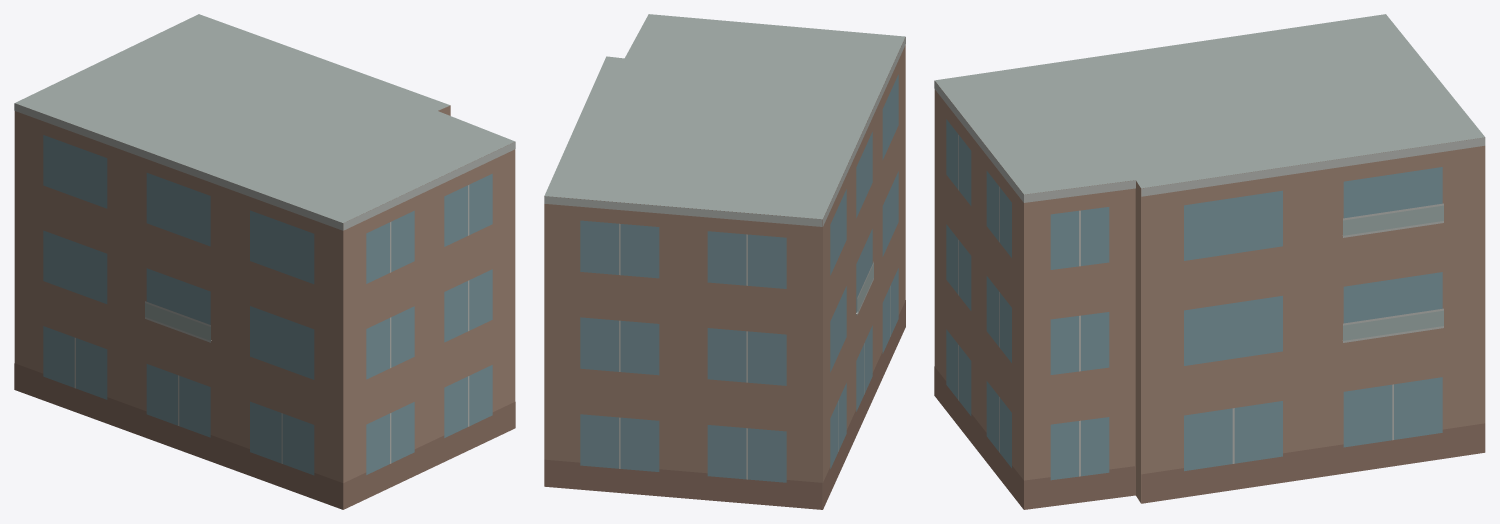
The model's file is survey-upis-32655100.glb.
3 renders of one model, left to right at view 1: azimuth 30°, elevation 25°; view 2: azimuth 150°, elevation 25°; view 3: azimuth 270°, elevation 25°, orthographic. The views are drawn at different scales.
Visible parts, largest first — view 1: survey-upis-32655100.tmp; view 2: survey-upis-32655100.tmp; view 3: survey-upis-32655100.tmp.
Boxes of the visible parts, box(x1,y1,x2,y2) form: survey-upis-32655100.tmp: box(14, 14, 515, 509); survey-upis-32655100.tmp: box(544, 14, 905, 509); survey-upis-32655100.tmp: box(934, 14, 1485, 509).
Bounding box in the file's own units: 11.25 × 9.15 × 14.5.
